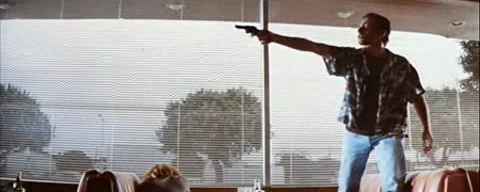face: (358, 16, 373, 45)
mls: (1, 1, 480, 192)
person: (256, 13, 434, 192)
